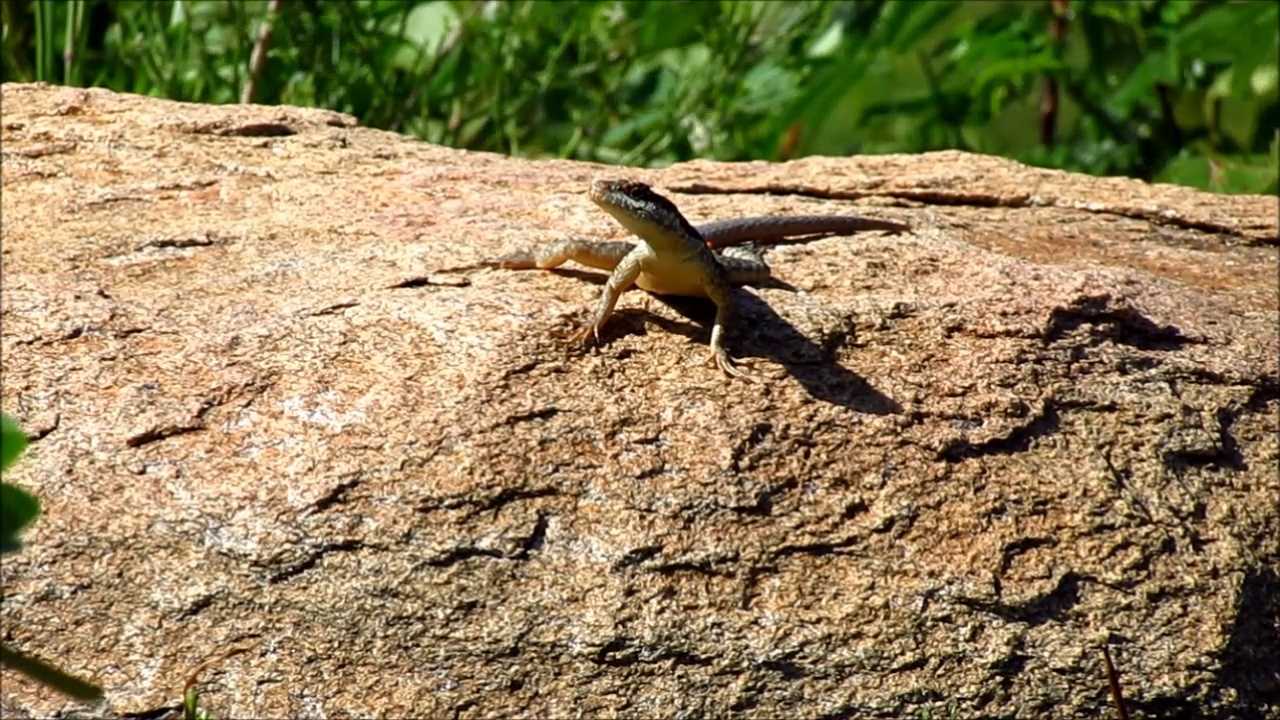body: (477, 209, 910, 381)
head: (587, 177, 670, 239)
